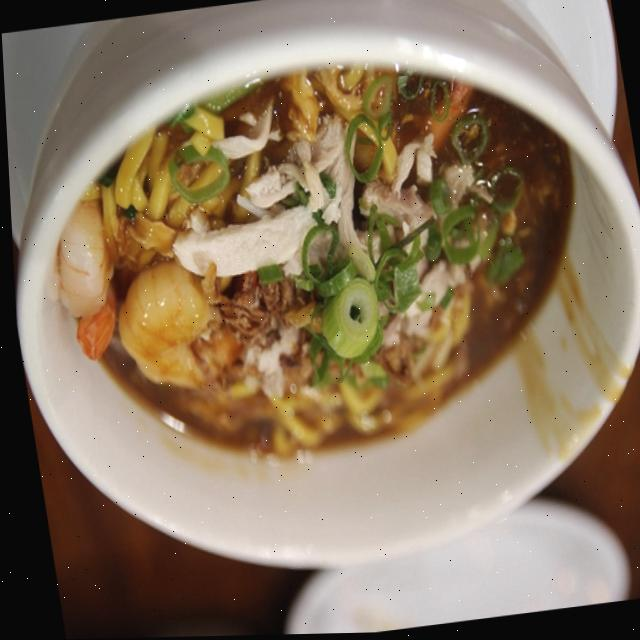面条主食: (1, 4, 640, 588)
